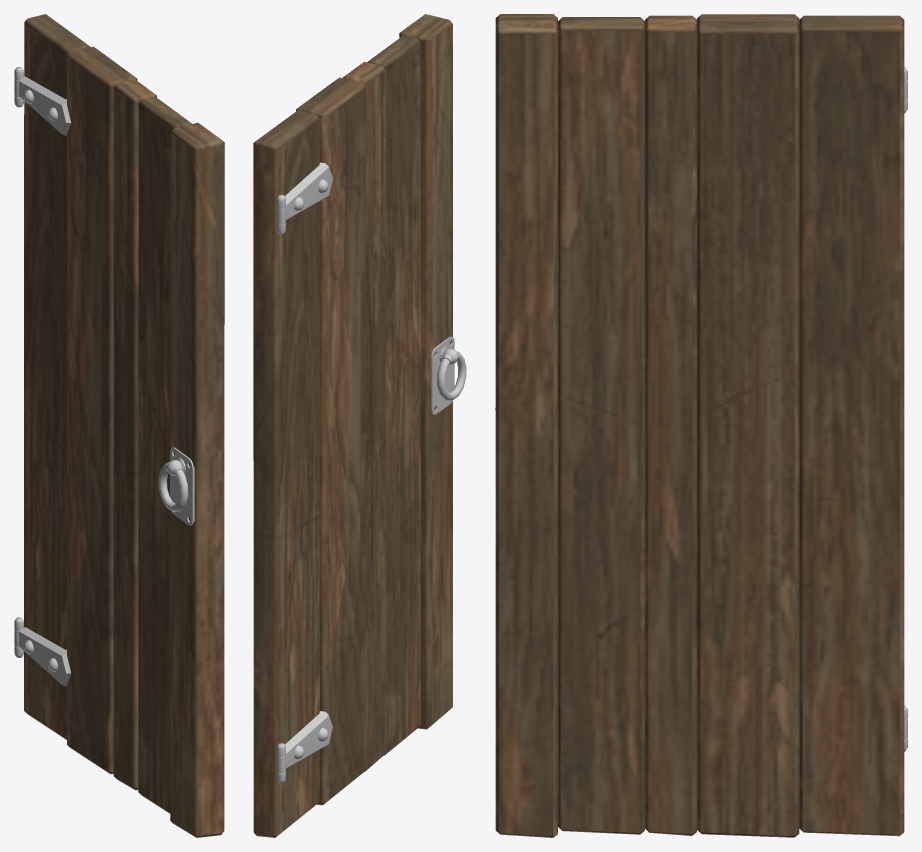
The model's file is SM_door_01.fbx.
3 renders of one model, left to right at view 1: azimuth 30°, elevation 25°; view 2: azimuth 150°, elevation 25°; view 3: azimuth 270°, elevation 25°, orthographic. The views are drawn at different scales.
Parts seen in each view (by area): view 1: SM_door_01_LOD0; view 2: SM_door_01_LOD0; view 3: SM_door_01_LOD0.
Part boxes in pixels (x1=…): SM_door_01_LOD0: x1=14, y1=14, x2=224, y2=837; SM_door_01_LOD0: x1=253, y1=14, x2=466, y2=837; SM_door_01_LOD0: x1=495, y1=14, x2=907, y2=837.
Size of the model in its own units: 17.13 by 115 by 249.
